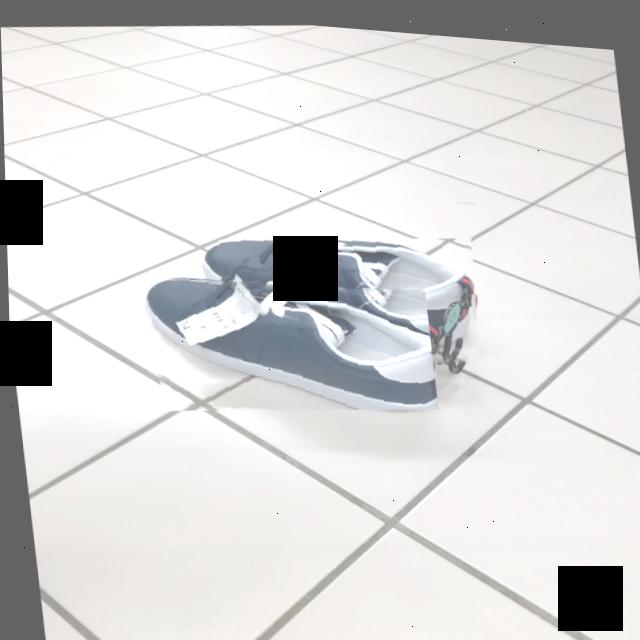shoe: (143, 276, 436, 403), (208, 233, 474, 356)
